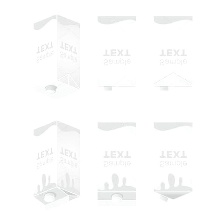carton: (25, 12, 89, 106), (28, 116, 83, 215), (146, 115, 198, 208), (90, 120, 139, 211), (148, 11, 196, 93), (92, 13, 140, 94)
